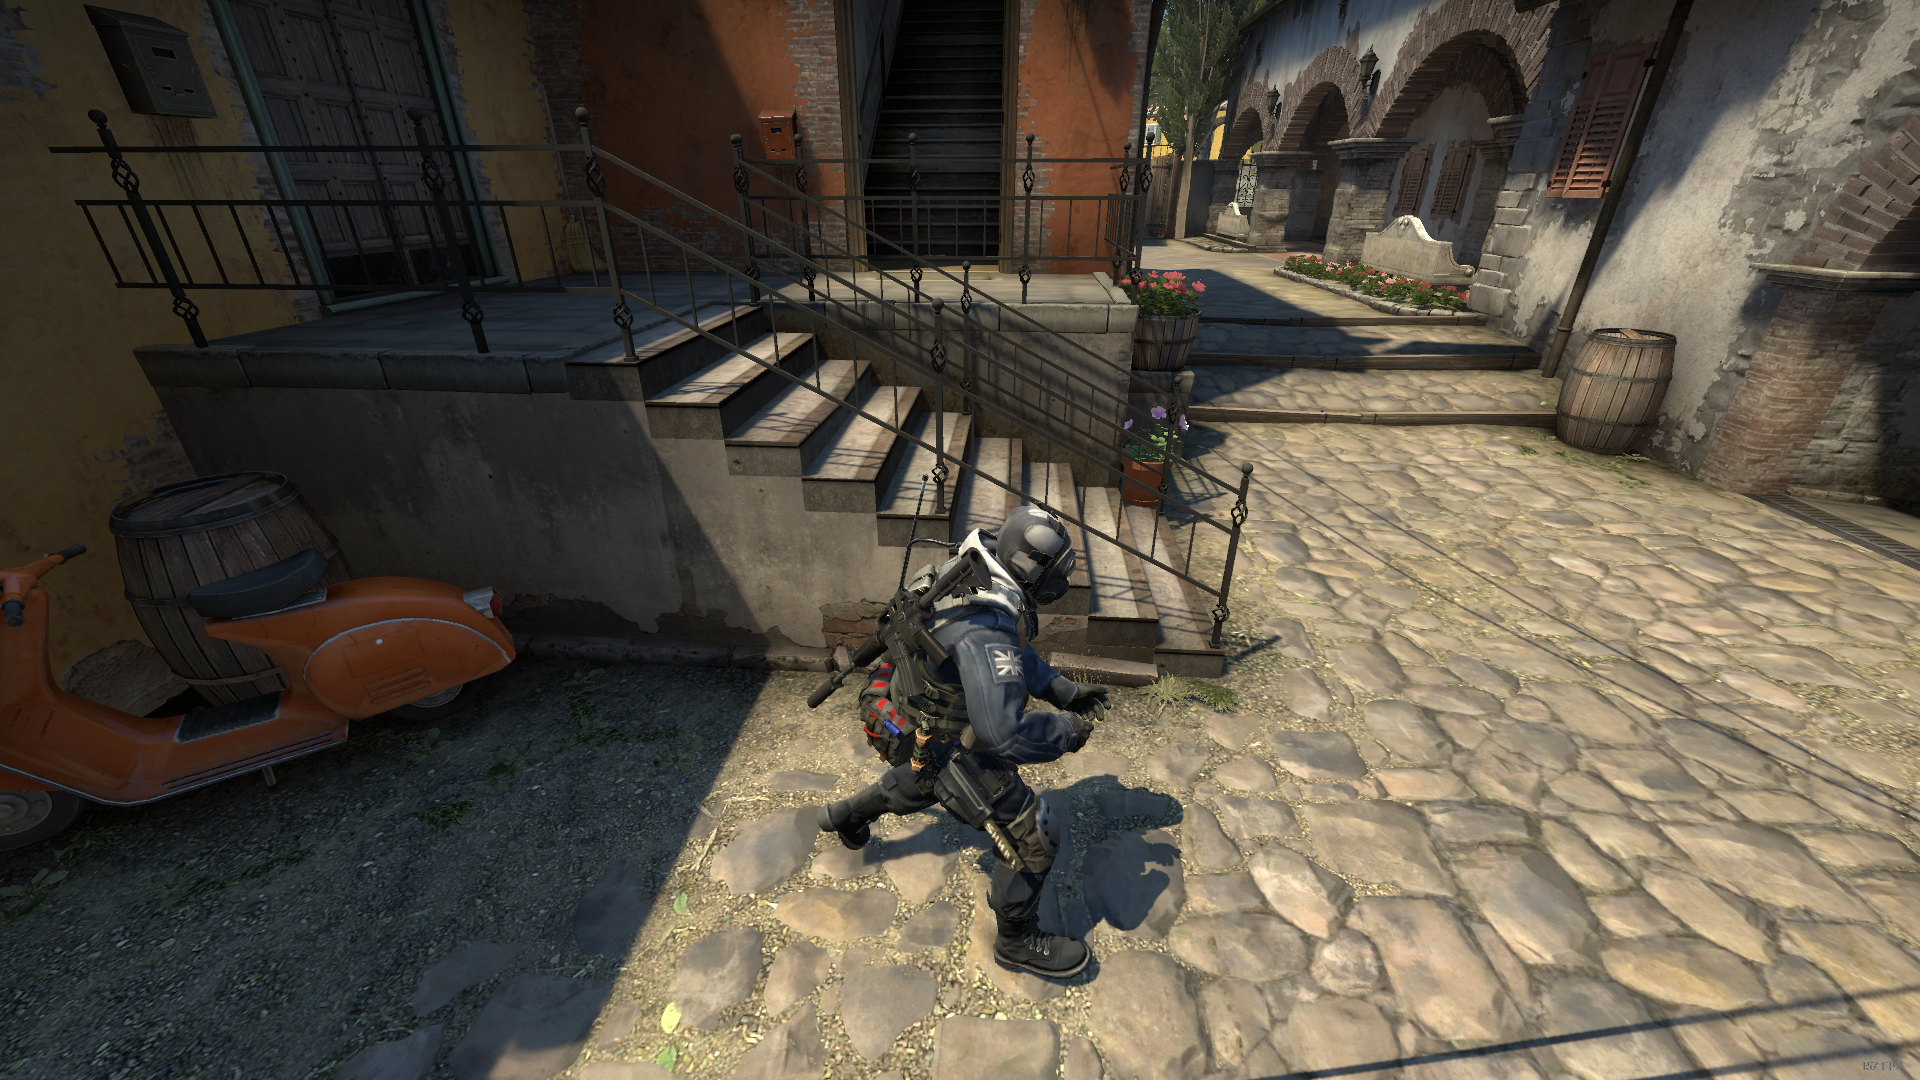ct: (800, 497, 1135, 996)
